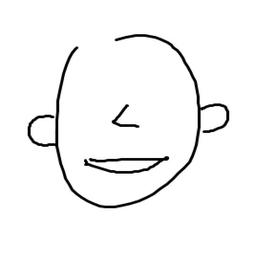ear: (20, 110, 61, 154), (188, 103, 234, 137)
open_mouth: (74, 148, 175, 179)
pointy_nose: (111, 99, 142, 134)
